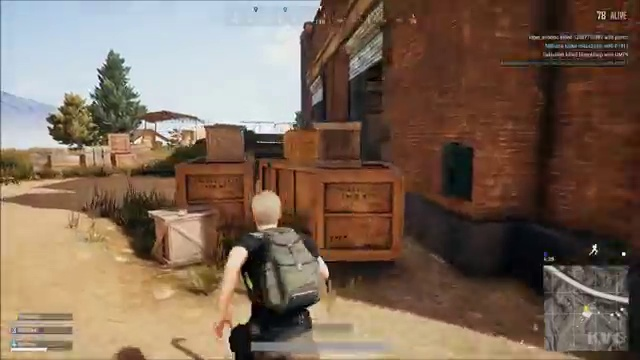Player: (205, 192, 352, 315)
